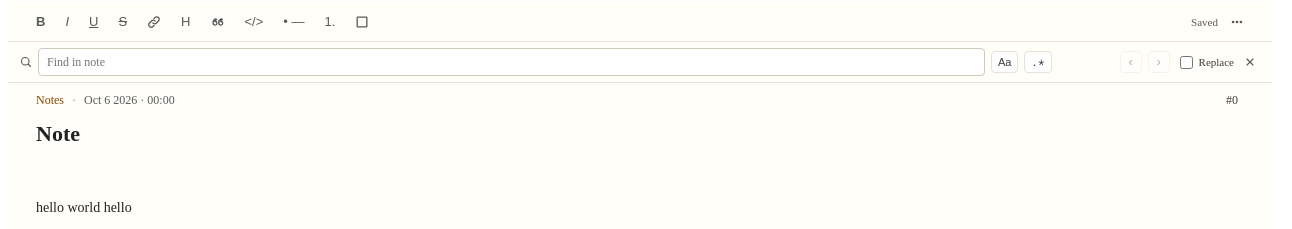
Scenario: find in note keeps focus in the find bar › a typing pause paints the match without putting the caret in the note
Type "hel" into the field with class "find-input" at x=511, y=62, box x1=38 y1=48 x2=985 y2=76
Wait 400 ms
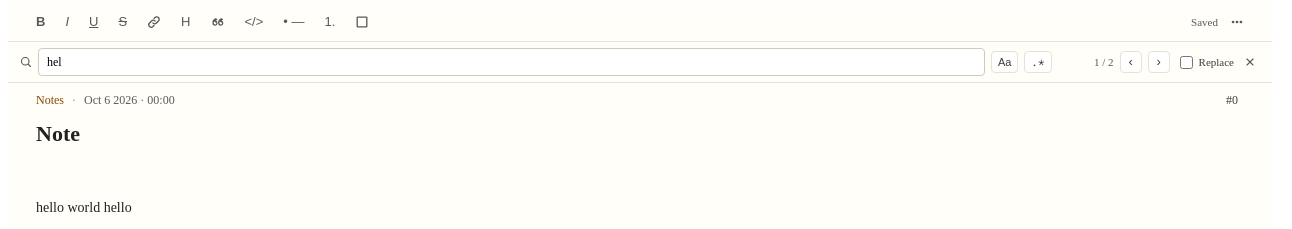
Now the text with class "find-count" reads "1 / 2", box x1=1094 y1=56 x2=1114 y2=68
